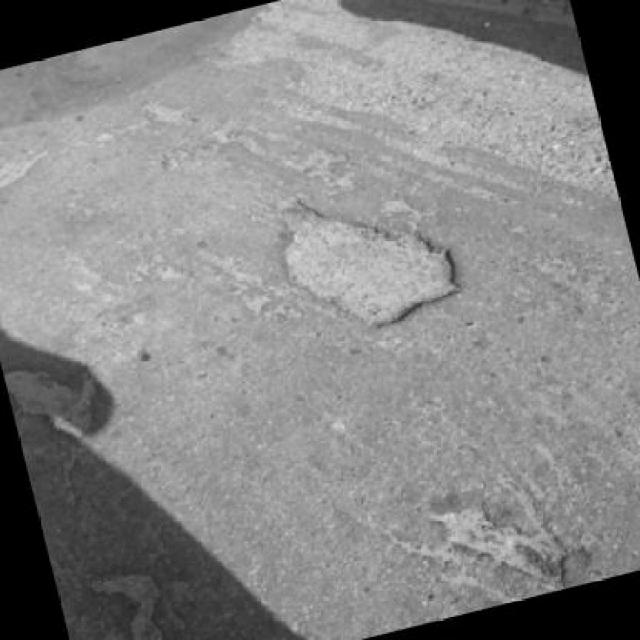pothole: (258, 154, 476, 352), (422, 476, 584, 616)
